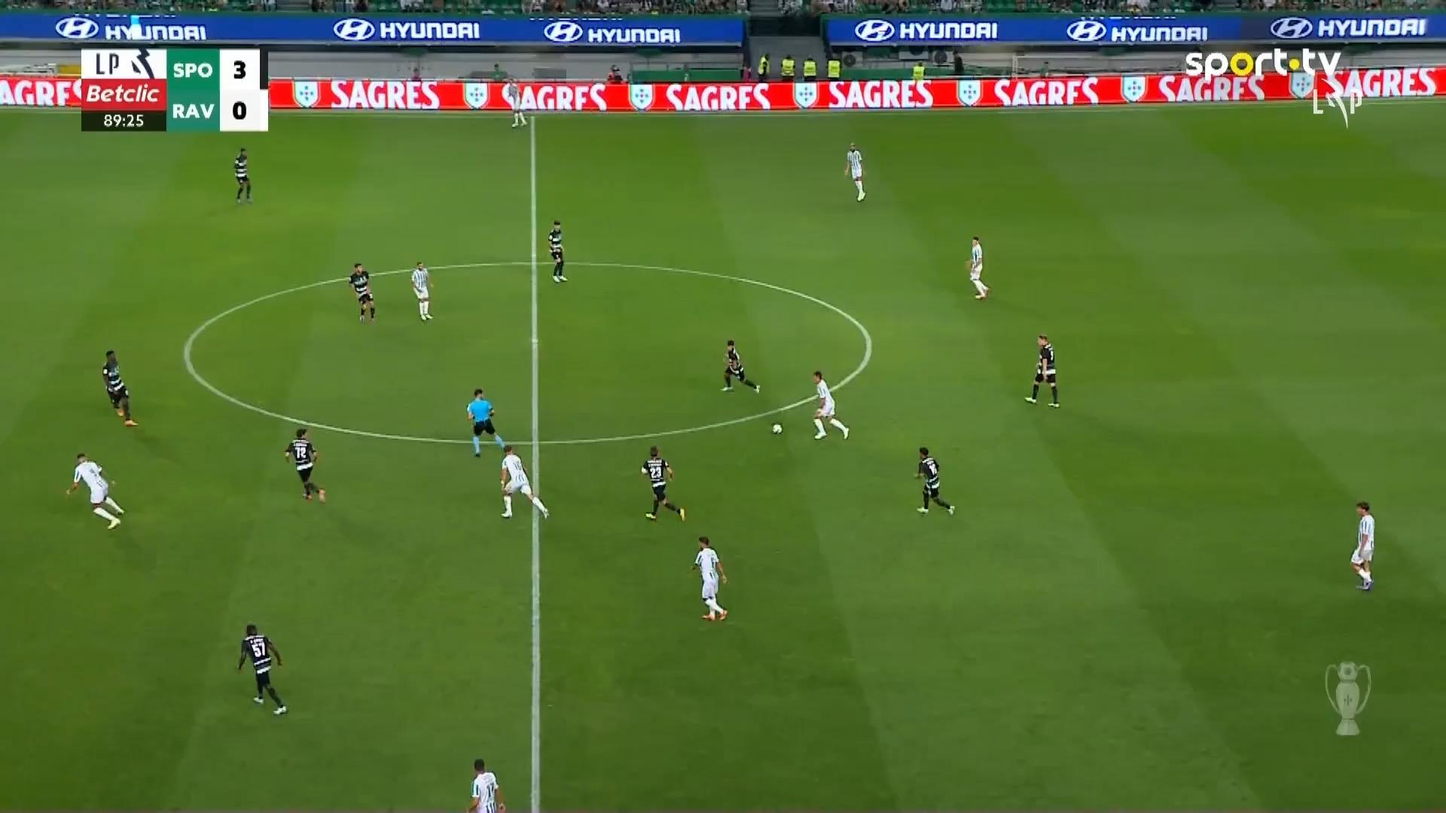ball: (771, 423, 782, 434)
player: (236, 623, 288, 715), (66, 452, 125, 529), (498, 444, 550, 519), (640, 445, 686, 522), (689, 535, 728, 622), (283, 427, 325, 503), (914, 446, 956, 516), (101, 349, 137, 427), (1023, 333, 1060, 407), (811, 370, 849, 440), (1350, 500, 1375, 590), (465, 757, 505, 811), (721, 339, 760, 394), (348, 262, 375, 322), (966, 236, 989, 300), (843, 142, 866, 202), (547, 219, 568, 283), (410, 260, 432, 321), (502, 77, 527, 128), (233, 147, 252, 203)
referee: (465, 388, 505, 456)
